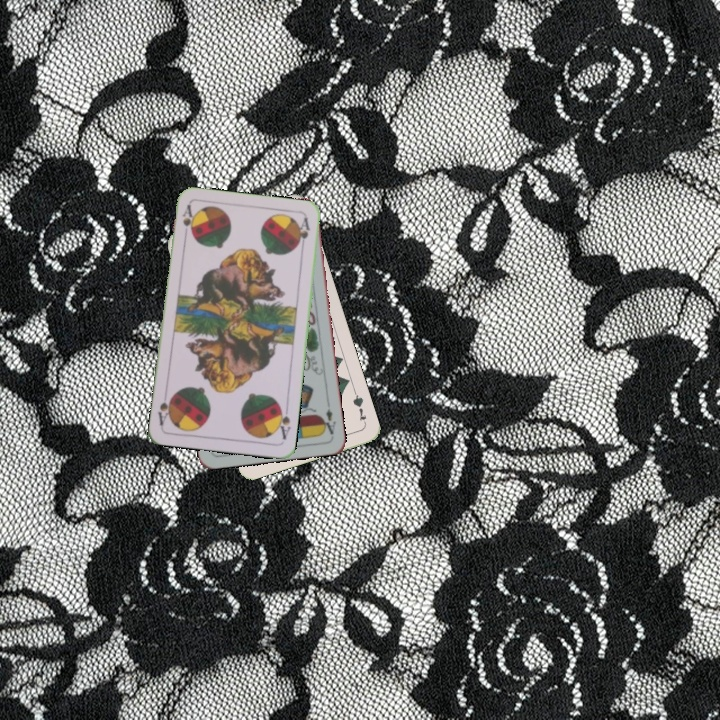EA: (318, 398, 338, 437)
G7: (349, 388, 369, 427)
SA: (273, 402, 293, 442), (179, 201, 196, 242)
